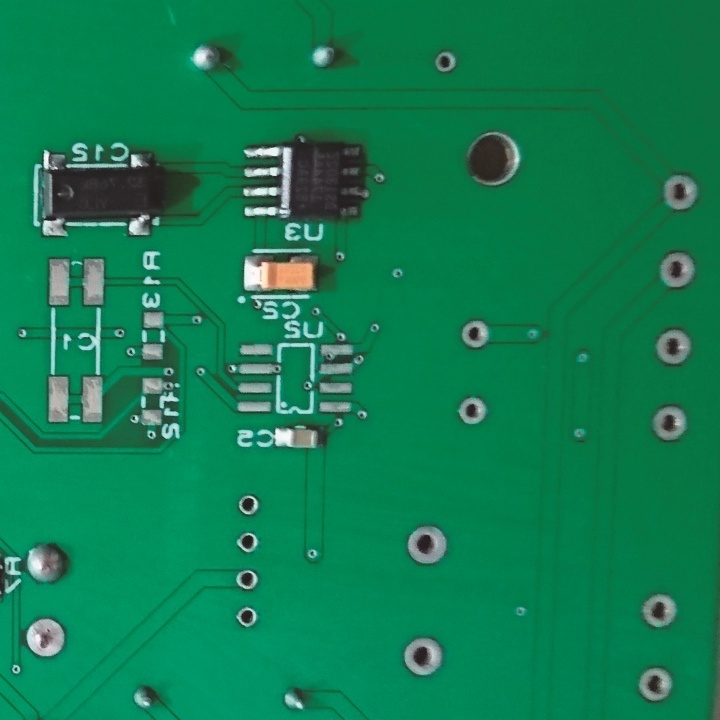F: (22, 614, 68, 663), (404, 523, 451, 567), (633, 663, 678, 706), (659, 172, 701, 218), (399, 634, 443, 677), (653, 326, 696, 369), (648, 403, 690, 445), (656, 248, 698, 290), (641, 592, 679, 635), (456, 394, 492, 429), (459, 314, 492, 352), (430, 48, 458, 76), (234, 492, 261, 520), (232, 604, 261, 630), (233, 568, 259, 596), (233, 530, 261, 556)
